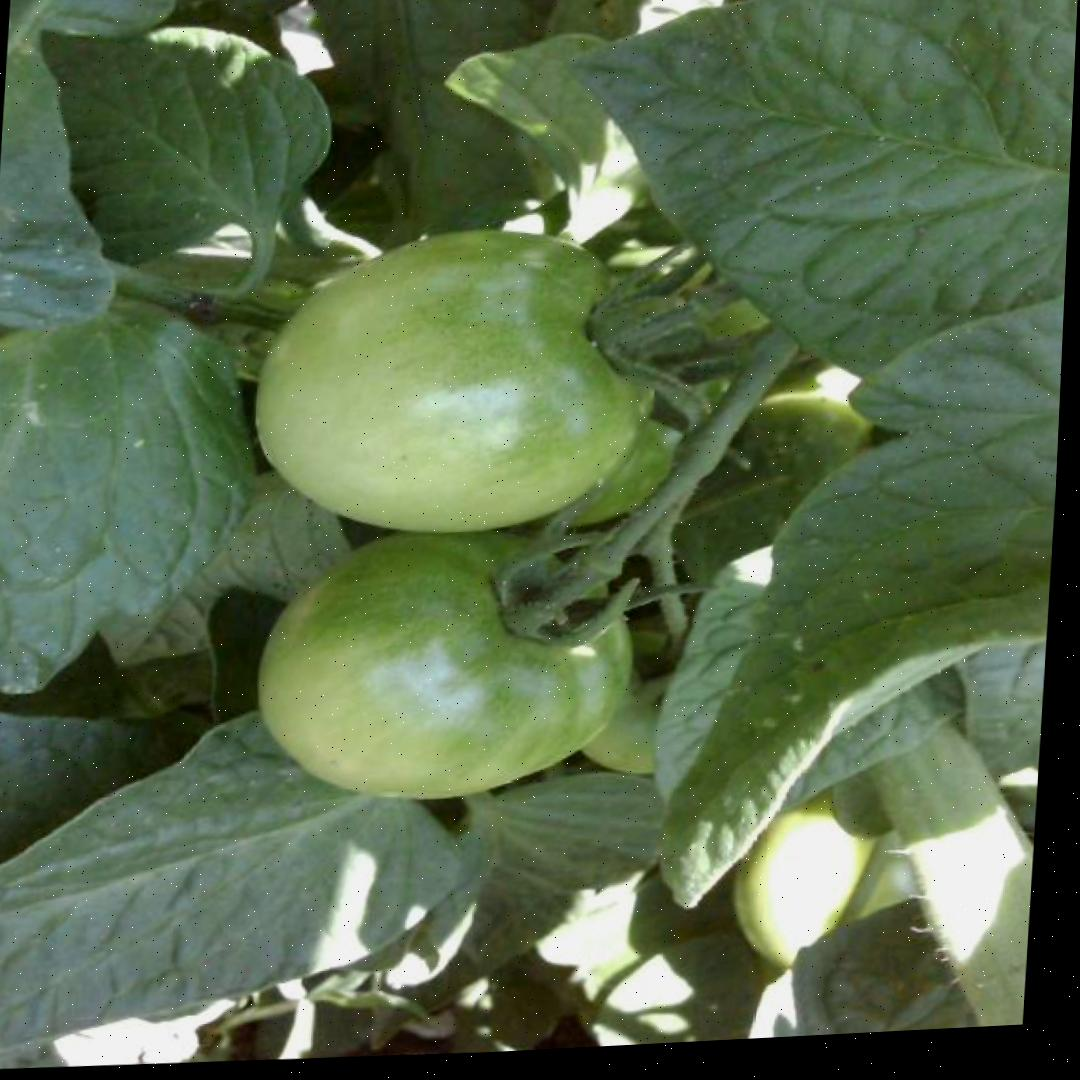mentah: (245, 218, 668, 550), (247, 512, 644, 816)
